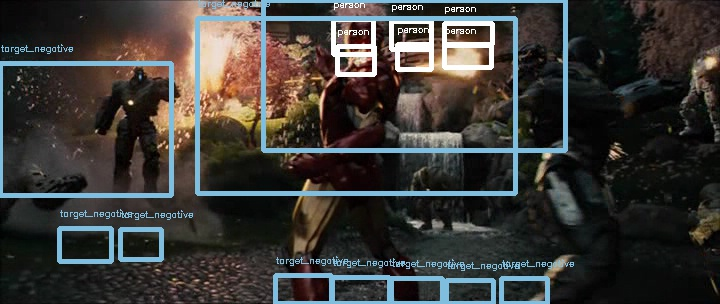person: (341, 18, 384, 62), (340, 18, 383, 62), (342, 18, 385, 62), (341, 17, 384, 61), (341, 19, 384, 63)
target_negative: (310, 30, 593, 156), (233, 20, 581, 86), (189, 292, 329, 304), (378, 80, 393, 144), (641, 286, 689, 302), (581, 108, 592, 127)
